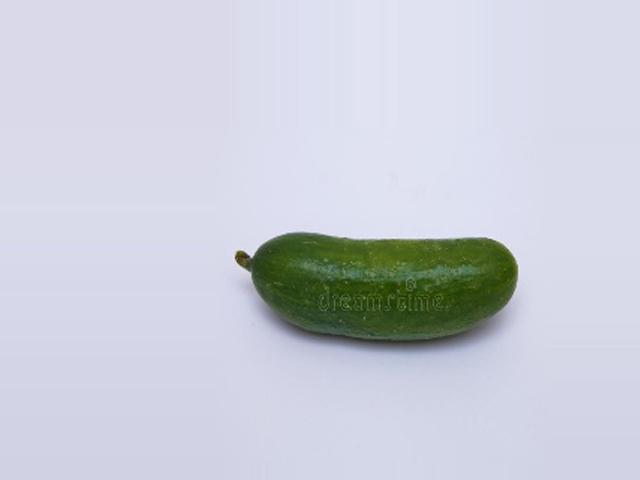cucumber: (235, 233, 518, 341)
